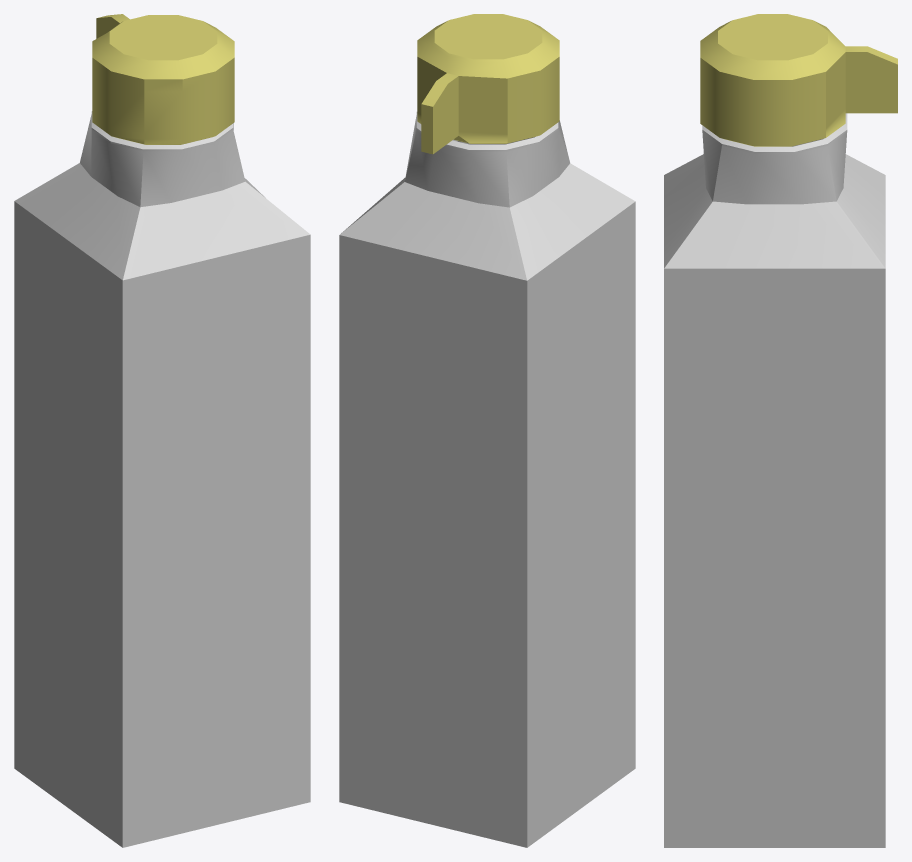
The model's file is Bottle.fbx.
3 renders of one model, left to right at view 1: azimuth 30°, elevation 25°; view 2: azimuth 150°, elevation 25°; view 3: azimuth 270°, elevation 25°, orthographic. The views are drawn at different scales.
Visible parts, largest first — view 1: Bottle, Cap; view 2: Bottle, Cap; view 3: Bottle, Cap.
Part boxes in pixels (<box>): Bottle: <box>14,111,310,847</box>; Cap: <box>92,14,234,144</box>; Bottle: <box>339,112,635,847</box>; Cap: <box>417,14,559,154</box>; Bottle: <box>664,113,885,847</box>; Cap: <box>700,14,897,146</box>.
Bounding box in the file's own units: 42.03 × 160 × 44.37.
